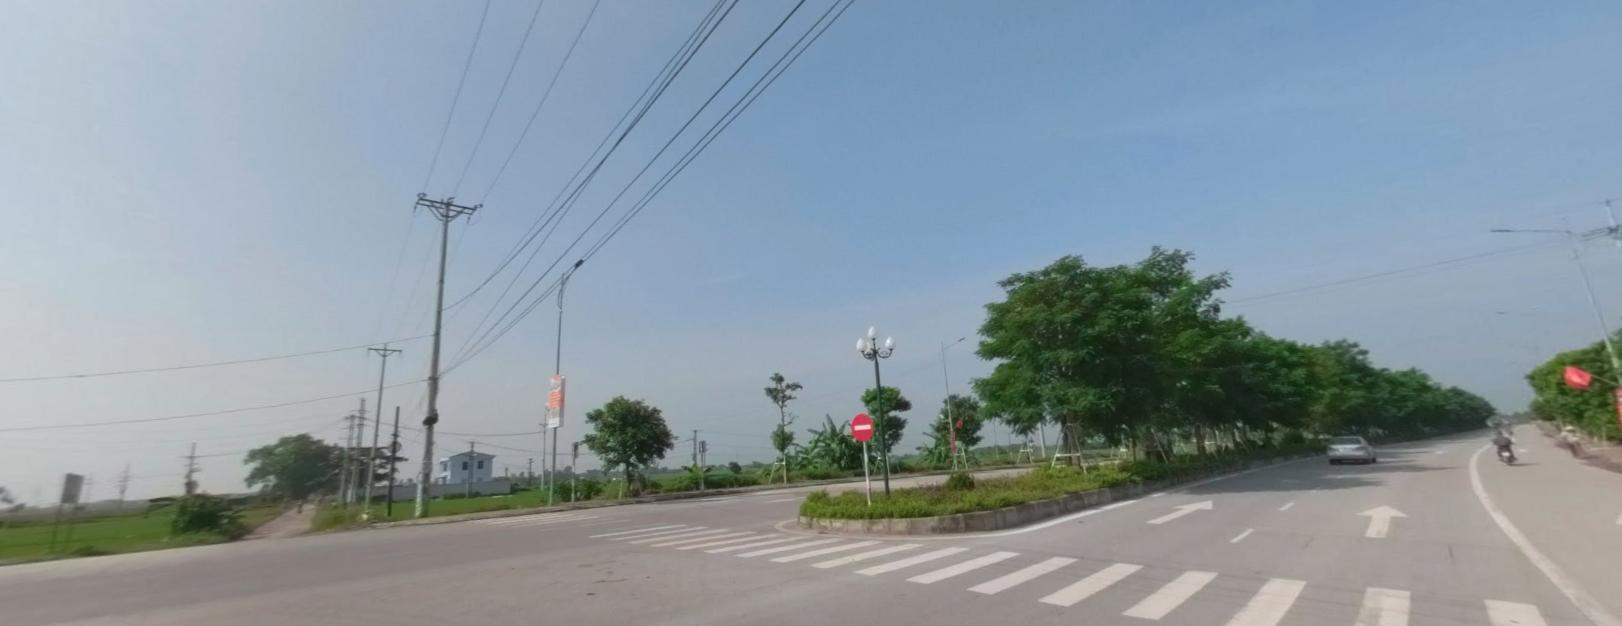Cam nguoc chieu: (850, 411, 873, 440)
